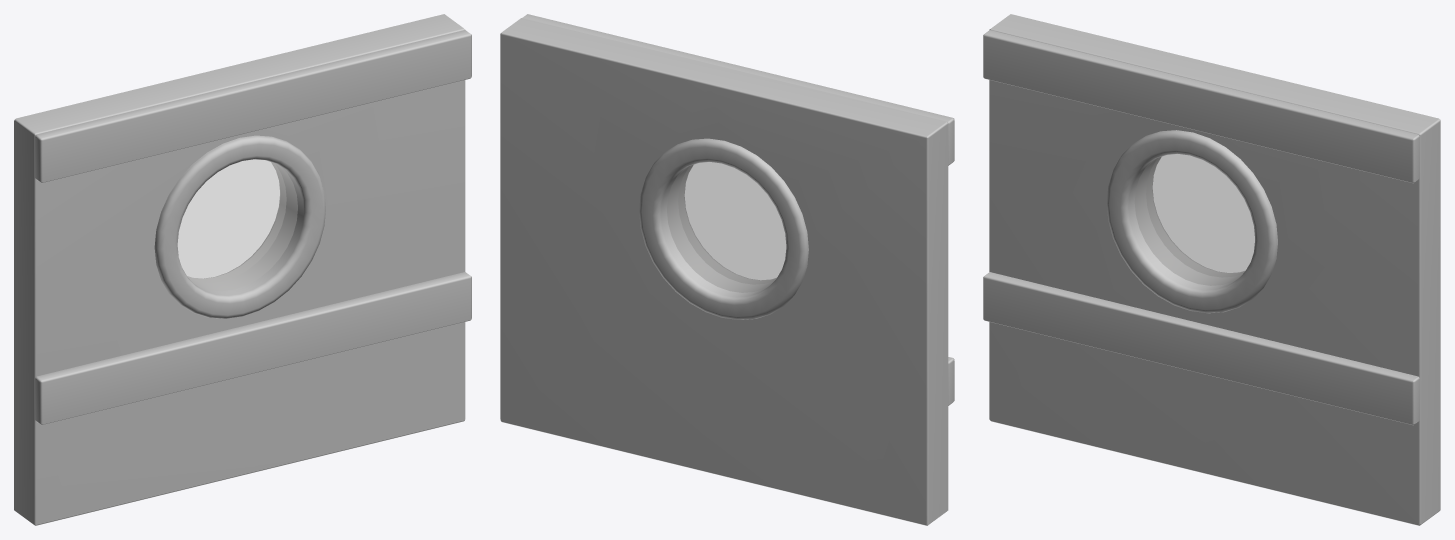
The model's file is Wall_66.fbx.
3 views of the same model, side by side, from view 1: azimuth 30°, elevation 25°; view 2: azimuth 150°, elevation 25°; view 3: azimuth 330°, elevation 25° (orthographic).
Parts seen in each view (by area): view 1: Wall_66; view 2: Wall_66; view 3: Wall_66.
Part boxes in pixels (x1,y1,x2,y2): Wall_66: (14, 14, 471, 525); Wall_66: (500, 14, 954, 525); Wall_66: (983, 14, 1440, 525).
Size of the model in its own units: 460 by 400 by 58.88.
